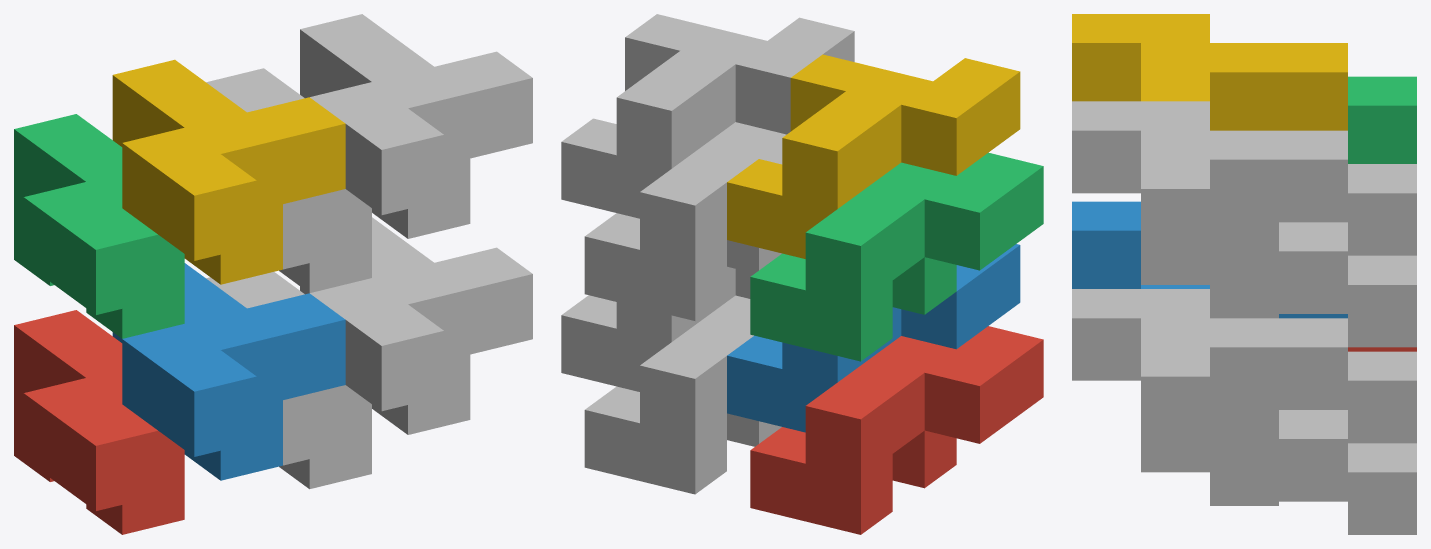
File: tiling.obj
3 renders of one model, left to right at view 1: azimuth 30°, elevation 25°; view 2: azimuth 150°, elevation 25°; view 3: azimuth 270°, elevation 25°, orthographic. The views are drawn at different scales.
Parts seen in each view (by area): view 1: copy_1_domain_4, copy_1_domain_8, copy_1_domain_2, copy_1_domain_6, copy_1_domain_3, copy_1_domain_1, copy_1_domain_7, copy_1_domain_5; view 2: copy_1_domain_3, copy_1_domain_1, copy_1_domain_4, copy_1_domain_8, copy_1_domain_7, copy_1_domain_5, copy_1_domain_2, copy_1_domain_6; view 3: copy_1_domain_8, copy_1_domain_6, copy_1_domain_4, copy_1_domain_7, copy_1_domain_5, copy_1_domain_2, copy_1_domain_3.
Boxes of the visible parts, x1,y1,x2,y2 form: copy_1_domain_4: (112, 59, 345, 284); copy_1_domain_8: (300, 14, 532, 238); copy_1_domain_2: (112, 263, 345, 480); copy_1_domain_6: (300, 217, 532, 434); copy_1_domain_3: (14, 114, 184, 338); copy_1_domain_1: (14, 310, 184, 534); copy_1_domain_7: (206, 68, 371, 293); copy_1_domain_5: (206, 272, 371, 489); copy_1_domain_3: (750, 152, 1043, 361); copy_1_domain_1: (750, 326, 1043, 534); copy_1_domain_4: (727, 54, 1020, 258); copy_1_domain_8: (561, 14, 854, 218); copy_1_domain_7: (584, 122, 786, 320); copy_1_domain_5: (584, 295, 781, 494); copy_1_domain_2: (727, 244, 1020, 432); copy_1_domain_6: (561, 266, 754, 391); copy_1_domain_8: (1072, 101, 1347, 313); copy_1_domain_6: (1072, 289, 1347, 501); copy_1_domain_4: (1072, 14, 1347, 130); copy_1_domain_7: (1210, 164, 1416, 347); copy_1_domain_5: (1210, 351, 1416, 534); copy_1_domain_2: (1072, 201, 1347, 318); copy_1_domain_3: (1348, 76, 1416, 163).
Size of the model in its own units: 7 by 6 by 5.
